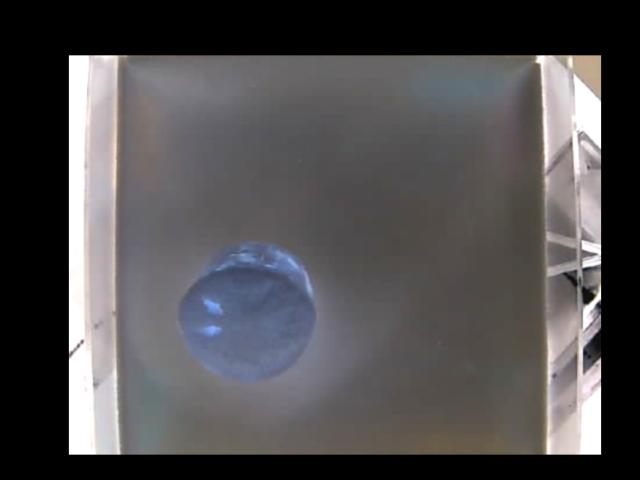Mooli: (175, 242, 315, 383)
